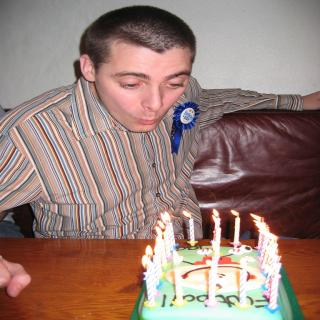Cake: (130, 242, 294, 319)
